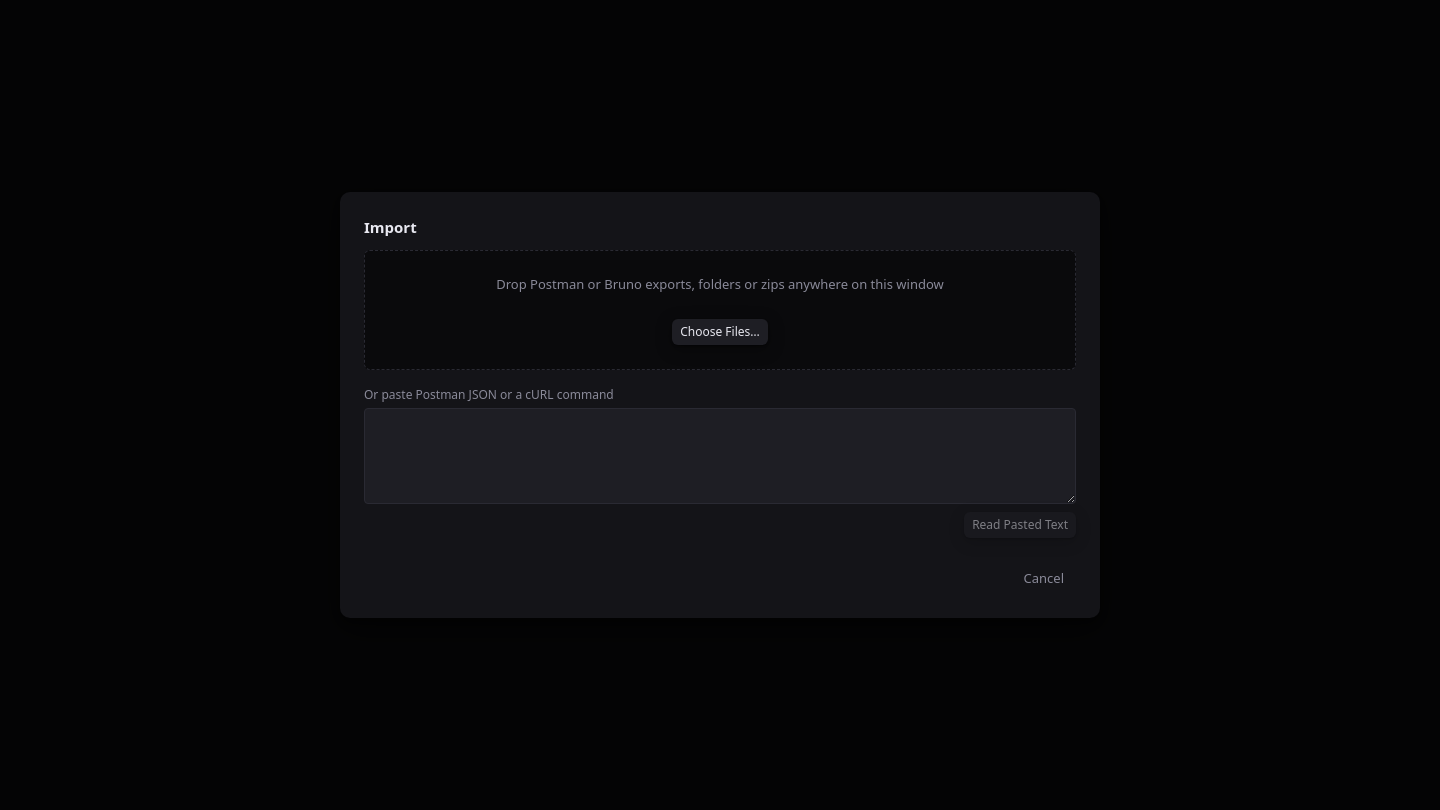
it: ImportDialog › reads pasted text, shows a refused source and the preview of an accepted one
Type "hello" into the text box labelled "Or paste Postman JSON or a cURL command" at point(720, 456), box x1=364 y1=408 x2=1076 y2=504
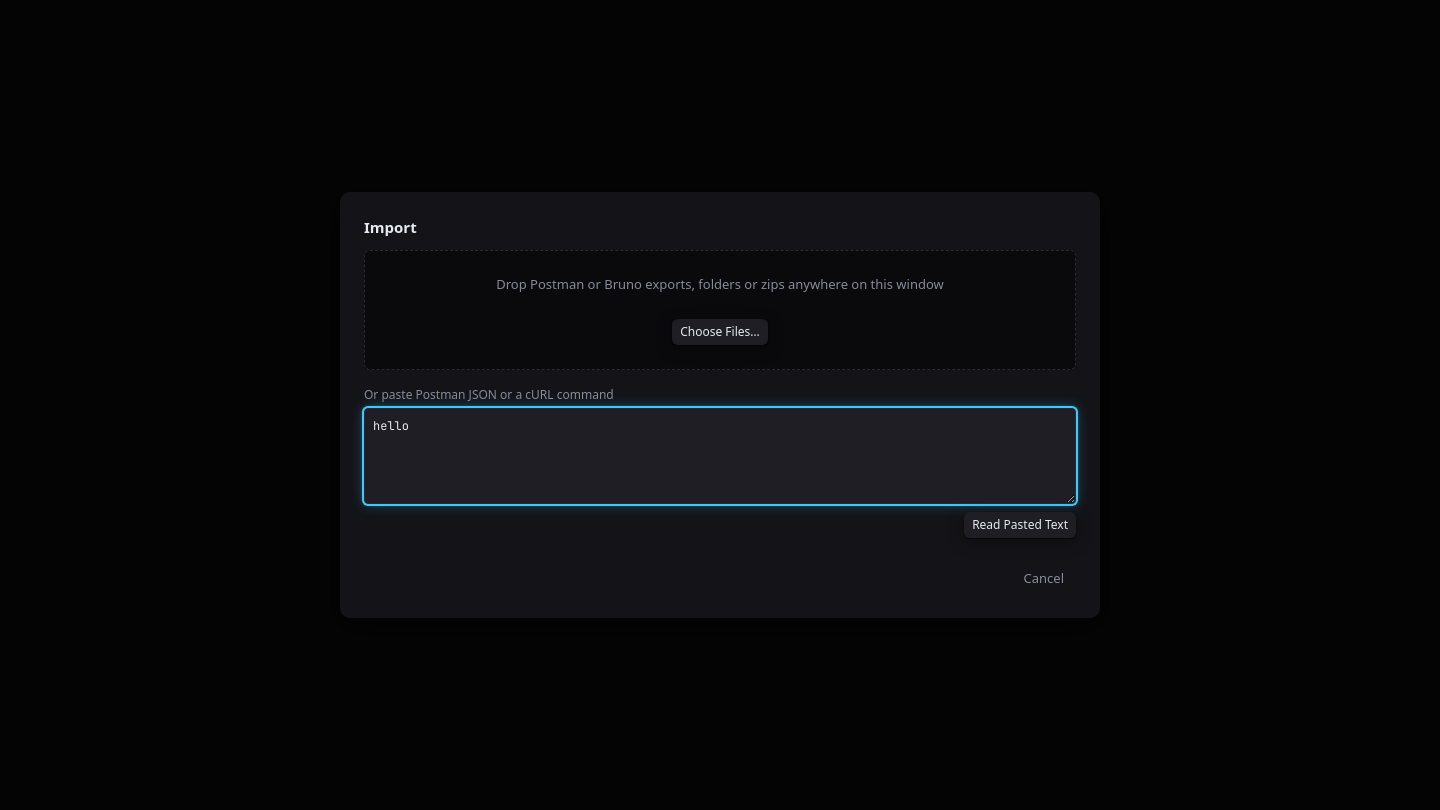
Click the button "Read Pasted Text" at point(1020, 525), box x1=964 y1=512 x2=1076 y2=538
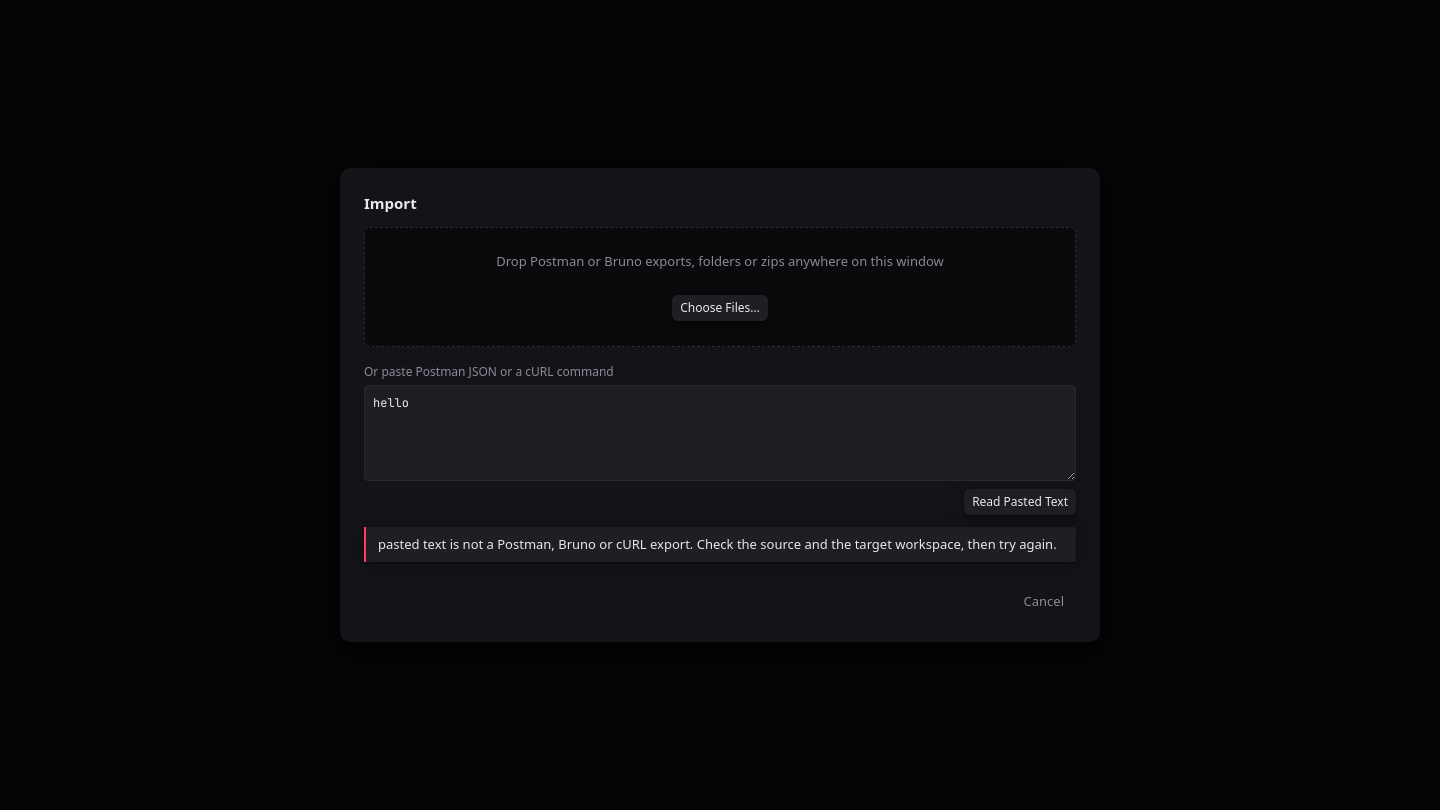
Expected: the message shows "pasted text is not a Postman, Bruno or cURL export. Check the source and the target workspace, then try again.", x1=378 y1=534 x2=1057 y2=552
Click the button "Read Pasted Text" at point(1020, 502), box x1=964 y1=488 x2=1076 y2=514
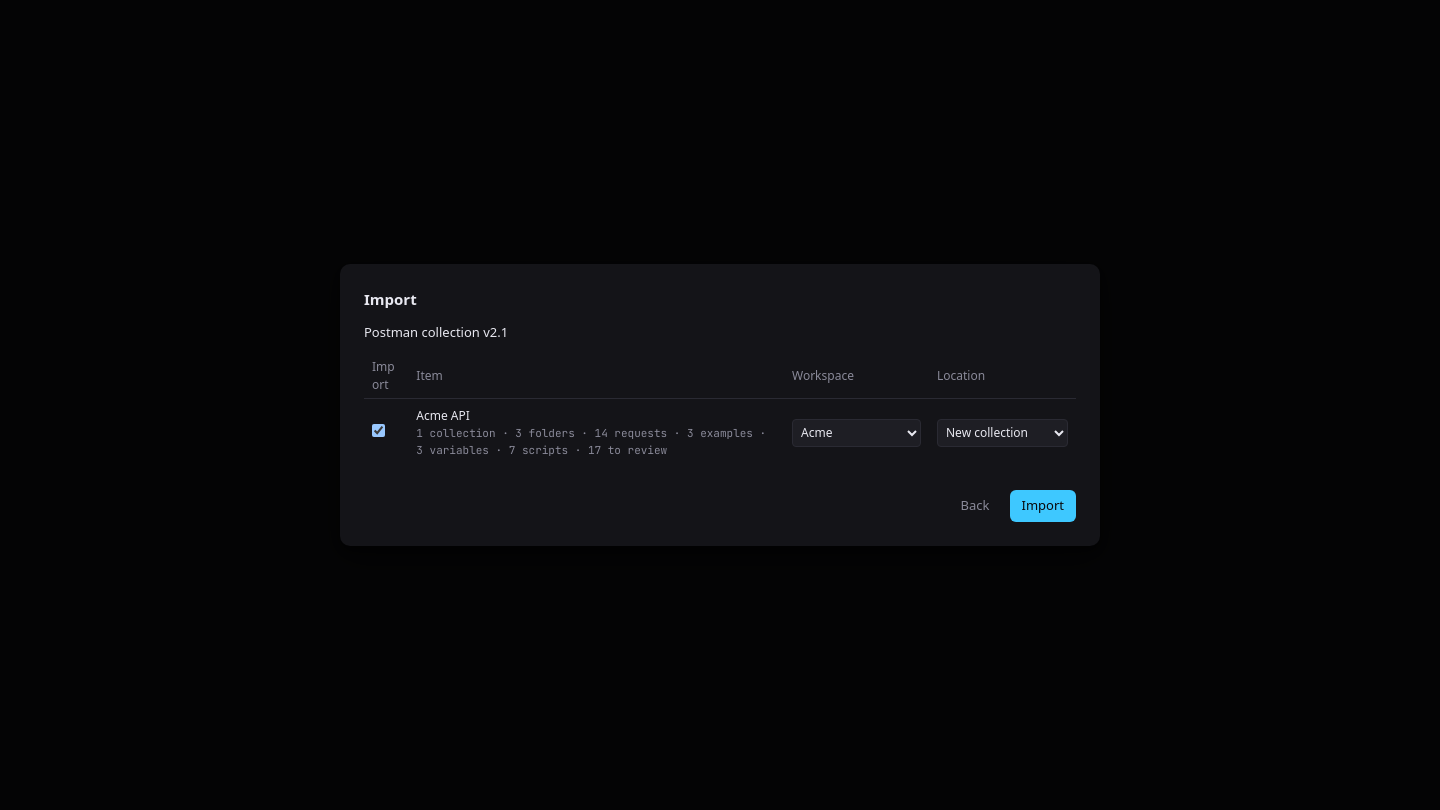
Expected: the text "Postman collection v2.1" is shown, x1=364 y1=322 x2=508 y2=340
Expected: the text "Acme API" is shown, x1=416 y1=407 x2=470 y2=424
Expected: the text "1 collection · 3 folders · 14 requests · 3 examples · 3 variables · 7 scripts · 17 to review" is shown, x1=416 y1=425 x2=776 y2=458
